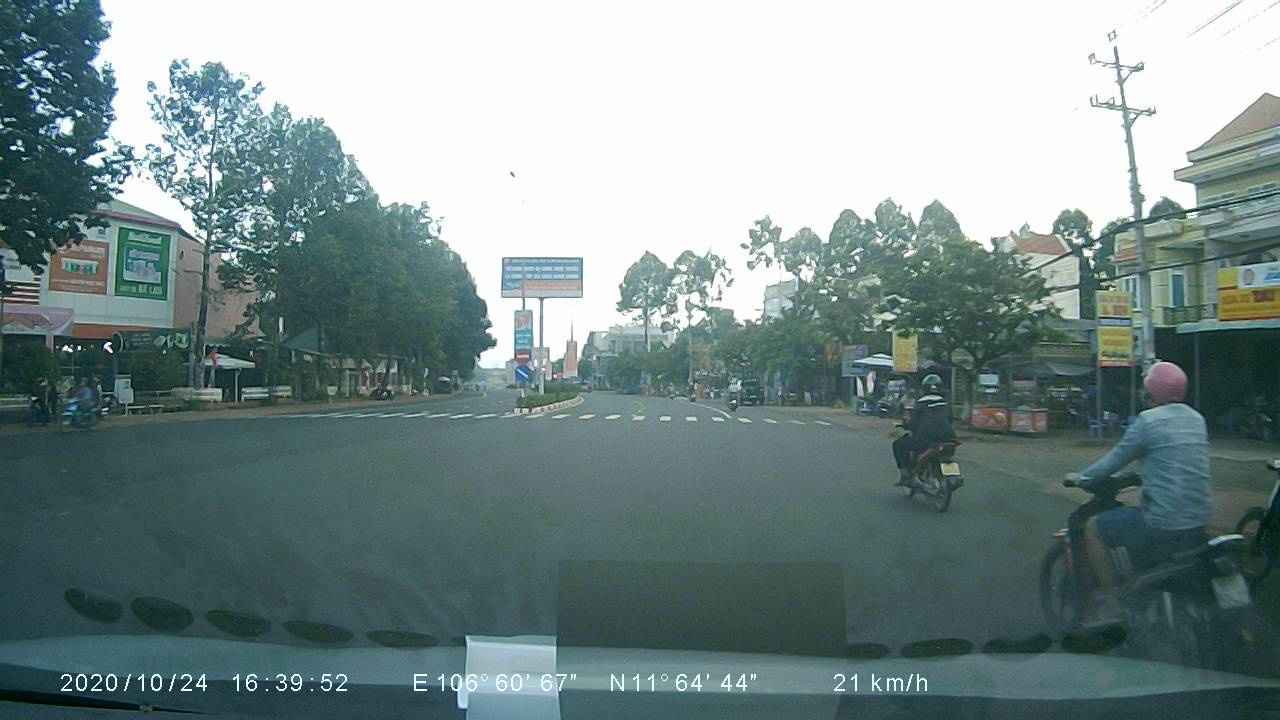Cam di nguoc chieu: (511, 344, 532, 363)
Huong di phai re phai: (513, 365, 533, 381)
